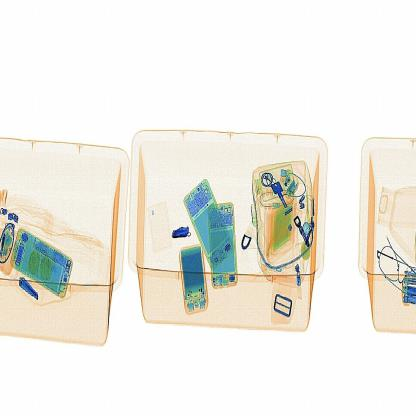knife: (172, 226, 194, 240)
